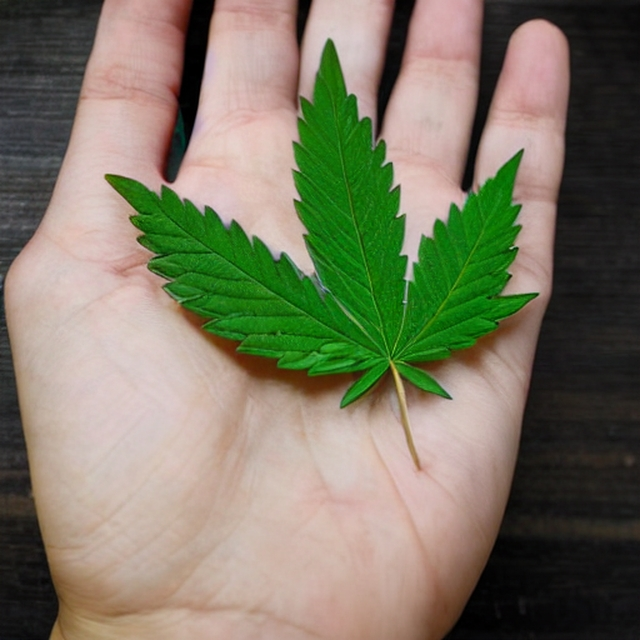Marijuana Leaf: (104, 36, 541, 468)
